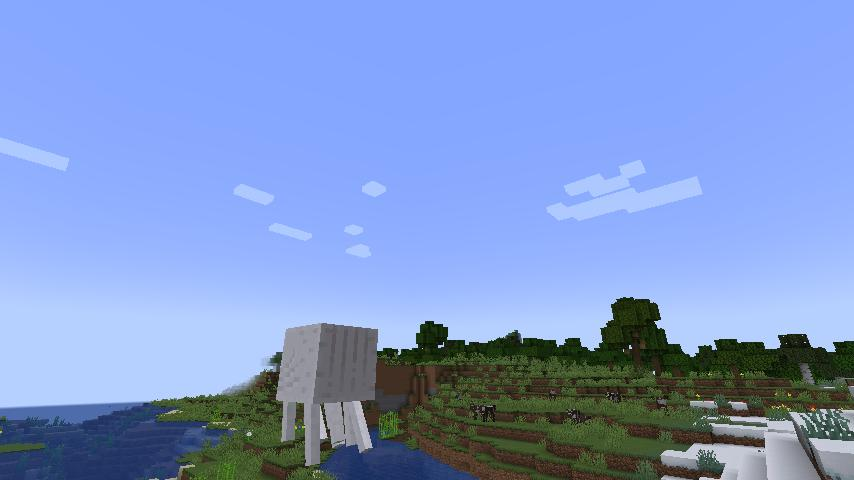cow: (471, 403, 496, 422), (655, 397, 667, 414), (566, 408, 580, 422), (606, 391, 620, 404), (549, 389, 555, 400)
ghast: (275, 321, 380, 467)
